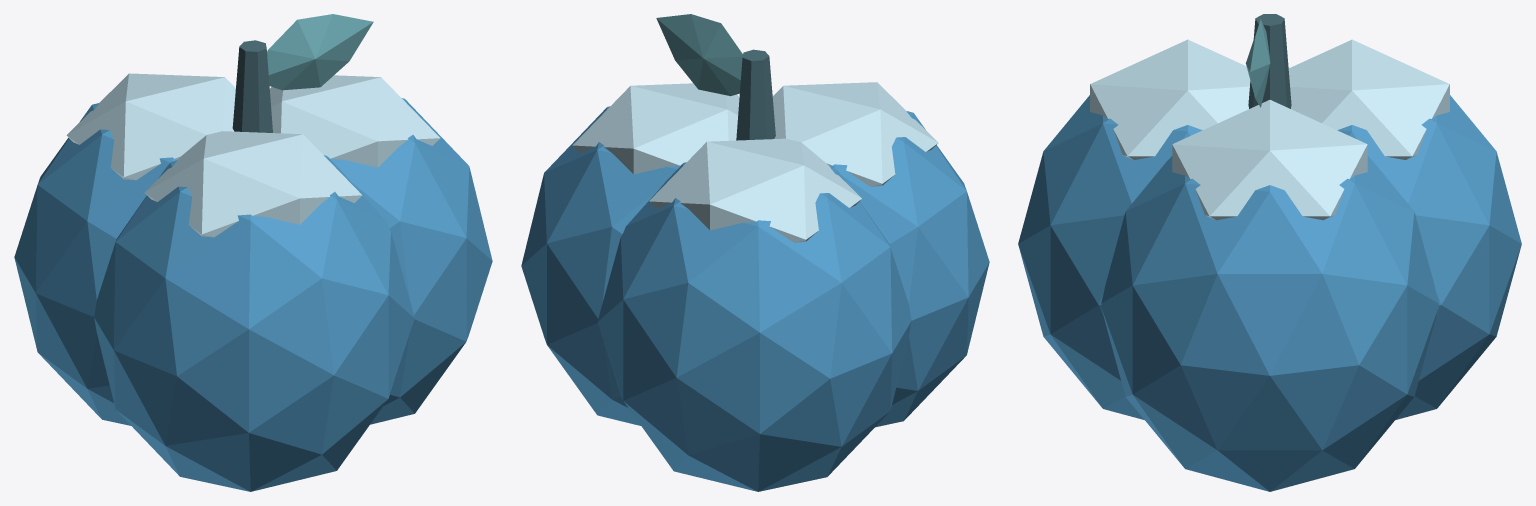
File: FrostberryFruit.obj
The picture shows the model from 3 angles, left to right: view 1: azimuth 30°, elevation 25°; view 2: azimuth 150°, elevation 25°; view 3: azimuth 270°, elevation 25°; orthographic projection. The views are drawn at different scales.
Parts seen in each view (by area): view 1: FrostberryFruit_FrostberryBody, FrostberryFruit_FrostberryBloom, FrostberryFruit_FrostberryLeaf, FrostberryFruit_FrostberryStem; view 2: FrostberryFruit_FrostberryBody, FrostberryFruit_FrostberryBloom, FrostberryFruit_FrostberryLeaf, FrostberryFruit_FrostberryStem; view 3: FrostberryFruit_FrostberryBody, FrostberryFruit_FrostberryBloom, FrostberryFruit_FrostberryStem, FrostberryFruit_FrostberryLeaf.
Boxes of the visible parts, box(x1,y1,x2,y2) form: FrostberryFruit_FrostberryBody: box(14, 98, 492, 491); FrostberryFruit_FrostberryBloom: box(66, 73, 440, 237); FrostberryFruit_FrostberryLeaf: box(267, 14, 373, 90); FrostberryFruit_FrostberryStem: box(232, 40, 272, 132); FrostberryFruit_FrostberryBody: box(521, 106, 989, 491); FrostberryFruit_FrostberryBloom: box(572, 82, 938, 242); FrostberryFruit_FrostberryLeaf: box(656, 14, 742, 96); FrostberryFruit_FrostberryStem: box(736, 49, 775, 140); FrostberryFruit_FrostberryBody: box(1018, 95, 1521, 491); FrostberryFruit_FrostberryBloom: box(1090, 39, 1449, 220); FrostberryFruit_FrostberryStem: box(1248, 14, 1291, 108); FrostberryFruit_FrostberryLeaf: box(1245, 19, 1270, 107).
Size of the model in its own units: 0.9563 by 0.968 by 1.
